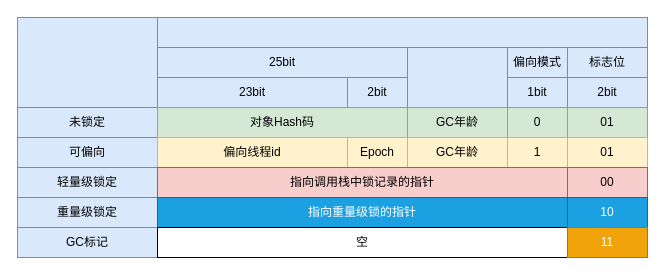
The diagram is 665 pixels wide and 275 high, and some of its shapes have lost their labels. The shapes that lost their labels are listed below. From the top down, each one's centre as x and y in pixels, then its label:
At pixel 402 32: "32bit".
At pixel 87 62: "锁状态".
At pixel 457 77: "4bit".
